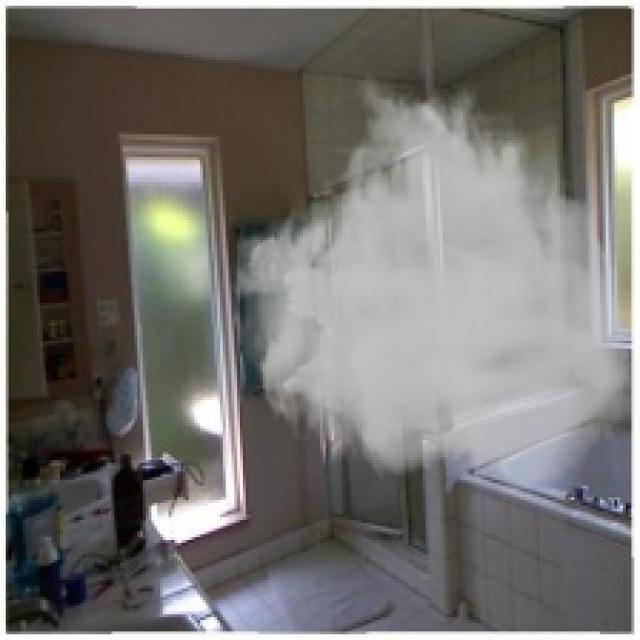smoke: (229, 71, 637, 500)
